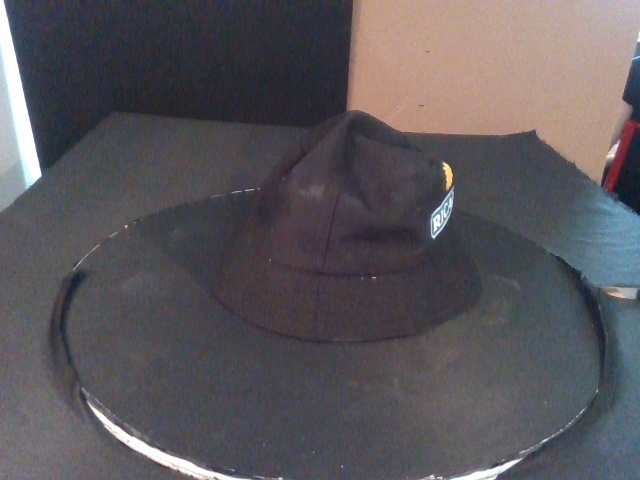hat: (211, 111, 480, 341)
